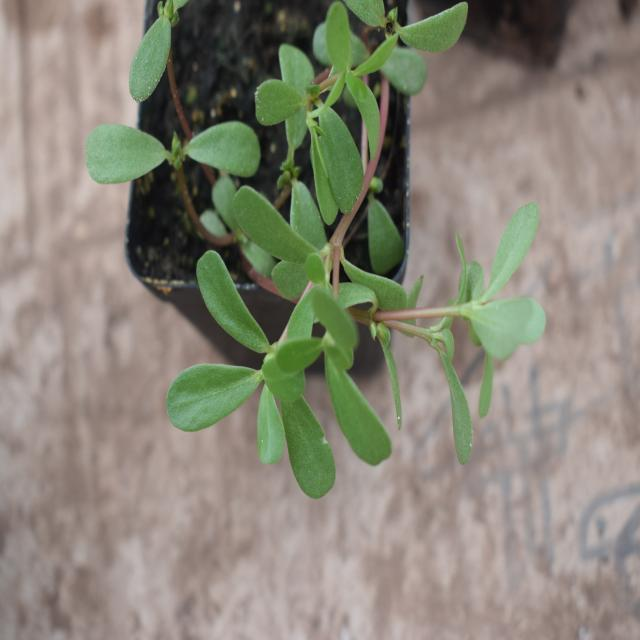purslane: (134, 79, 552, 478)
